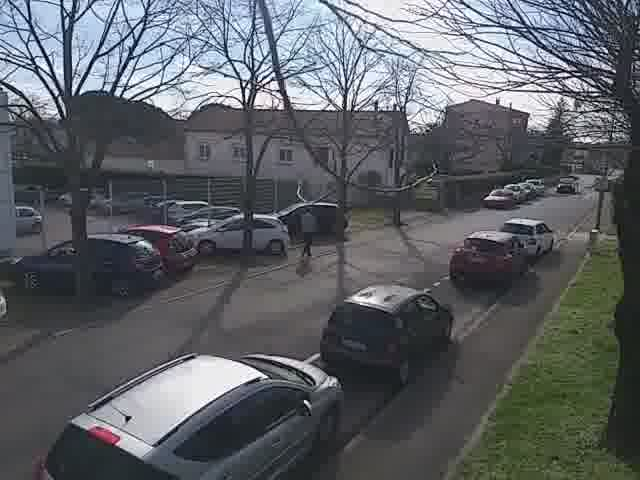persona: (293, 202, 323, 263)
